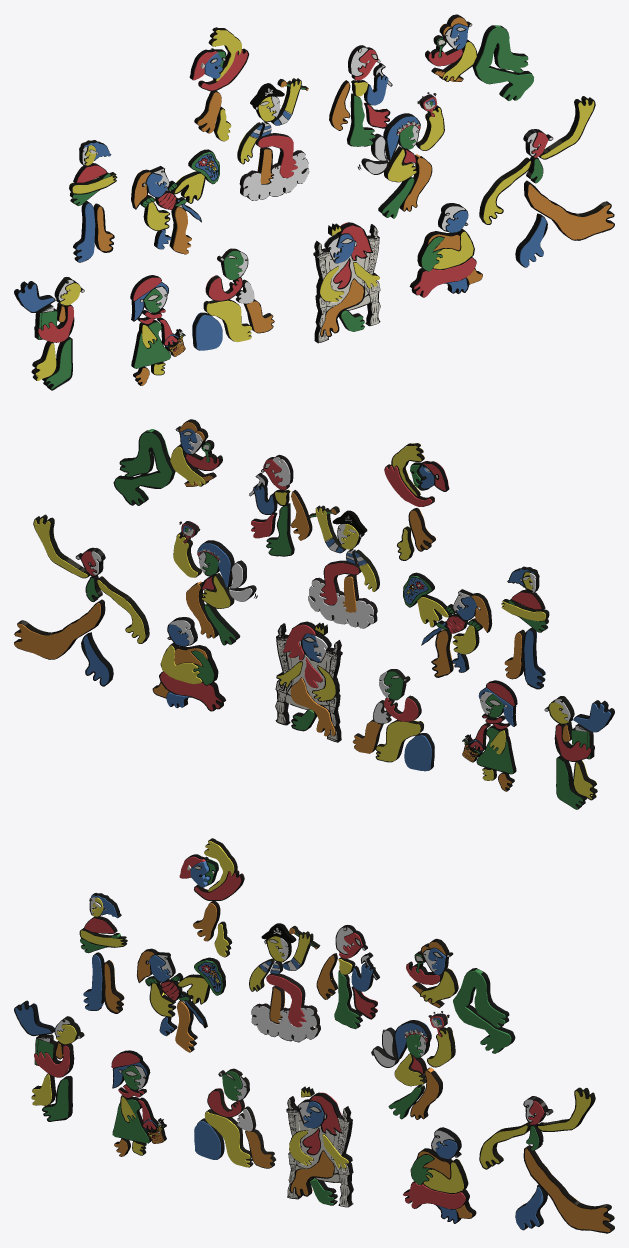
Rendered from everyone-tabletop.glb.
3 views of the same model, one above another, from view 1: azimuth 30°, elevation 25°; view 2: azimuth 150°, elevation 25°; view 3: azimuth 330°, elevation 25° (orthographic).
Parts seen in each view (by area): view 1: Shape 0 (×3), Shape 2 (×3), Shape 14 (×2), Shape 10 (×2), Shape 4 (×2), Shape 1 (×2), Shape 22, Shape 109, Shape 9 (×2), Shape 11, Shape 7 (×2), Shape 73 (+8 smaller); view 2: Shape 0 (×3), Shape 2 (×3), Shape 14 (×2), Shape 10 (×2), Shape 4 (×2), Shape 1 (×2), Shape 22, Shape 9 (×2), Shape 11, Shape 109, Shape 7 (×2), Shape 73 (+7 smaller); view 3: Shape 0 (×3), Shape 2 (×3), Shape 14 (×2), Shape 10 (×2), Shape 4 (×2), Shape 1 (×2), Shape 22, Shape 109, Shape 9 (×2), Shape 11, Shape 7 (×2), Shape 73 (+8 smaller).
Boxes of the visible parts, x1=… form: Shape 0 (×3): x1=35, y1=25, x2=531, y2=380; Shape 2 (×3): x1=46, y1=25, x2=613, y2=389; Shape 14 (×2): x1=77, y1=47, x2=388, y2=340; Shape 10 (×2): x1=97, y1=80, x2=476, y2=385; Shape 4 (×2): x1=14, y1=24, x2=546, y2=311; Shape 1 (×2): x1=41, y1=101, x2=444, y2=331; Shape 22: x1=313, y1=222, x2=380, y2=343; Shape 109: x1=131, y1=53, x2=388, y2=320; Shape 9 (×2): x1=131, y1=228, x2=482, y2=385; Shape 11: x1=154, y1=96, x2=594, y2=374; Shape 7 (×2): x1=140, y1=115, x2=464, y2=341; Shape 73: x1=140, y1=49, x2=462, y2=350; Shape 0 (×3): x1=113, y1=430, x2=597, y2=799; Shape 2 (×3): x1=14, y1=429, x2=582, y2=809; Shape 14 (×2): x1=229, y1=457, x2=541, y2=744; Shape 10 (×2): x1=160, y1=492, x2=521, y2=790; Shape 4 (×2): x1=83, y1=429, x2=610, y2=731; Shape 1 (×2): x1=185, y1=528, x2=587, y2=749; Shape 22: x1=275, y1=621, x2=342, y2=742; Shape 9 (×2): x1=152, y1=642, x2=516, y2=791; Shape 11: x1=34, y1=518, x2=493, y2=780; Shape 109: x1=254, y1=466, x2=513, y2=726; Shape 7 (×2): x1=169, y1=542, x2=506, y2=762; Shape 73: x1=186, y1=454, x2=507, y2=756; Shape 0 (×3): x1=31, y1=841, x2=515, y2=1192; Shape 2 (×3): x1=43, y1=969, x2=610, y2=1232; Shape 14 (×2): x1=84, y1=856, x2=395, y2=1154; Shape 10 (×2): x1=104, y1=903, x2=465, y2=1208; Shape 4 (×2): x1=15, y1=948, x2=543, y2=1229; Shape 1 (×2): x1=37, y1=973, x2=439, y2=1205; Shape 22: x1=286, y1=1092, x2=353, y2=1207; Shape 109: x1=113, y1=861, x2=372, y2=1128; Shape 9 (×2): x1=112, y1=1095, x2=476, y2=1223; Shape 11: x1=132, y1=936, x2=590, y2=1168; Shape 7 (×2): x1=119, y1=961, x2=458, y2=1167; Shape 73: x1=118, y1=964, x2=439, y2=1138.
Size of the model in its own units: 1.13 by 0.6 by 0.0795.
